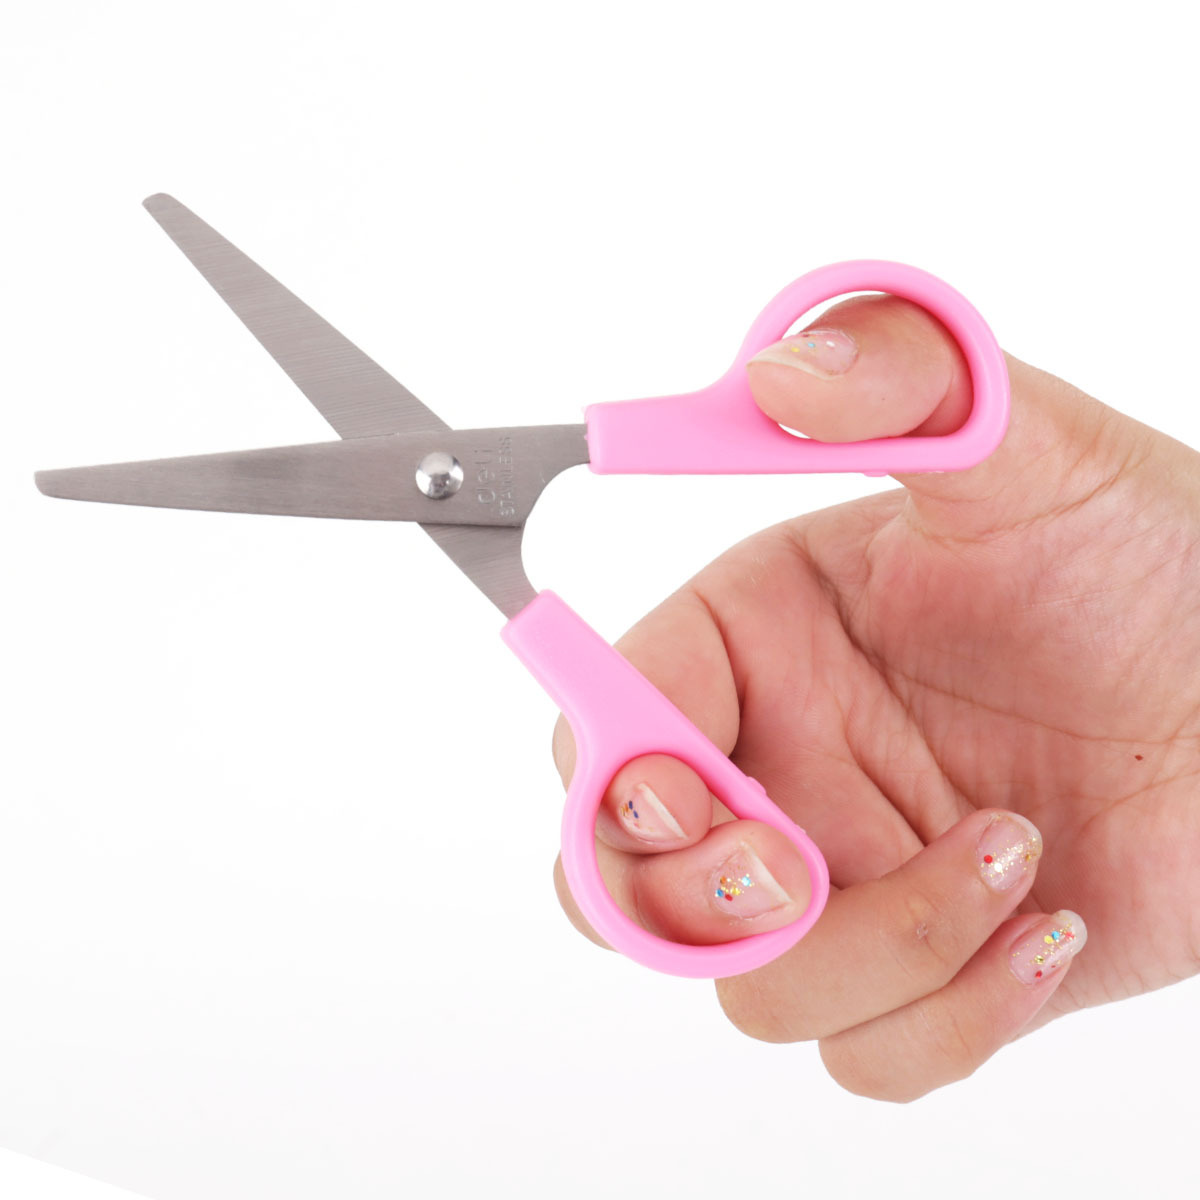scissors: (26, 188, 1021, 1000)
